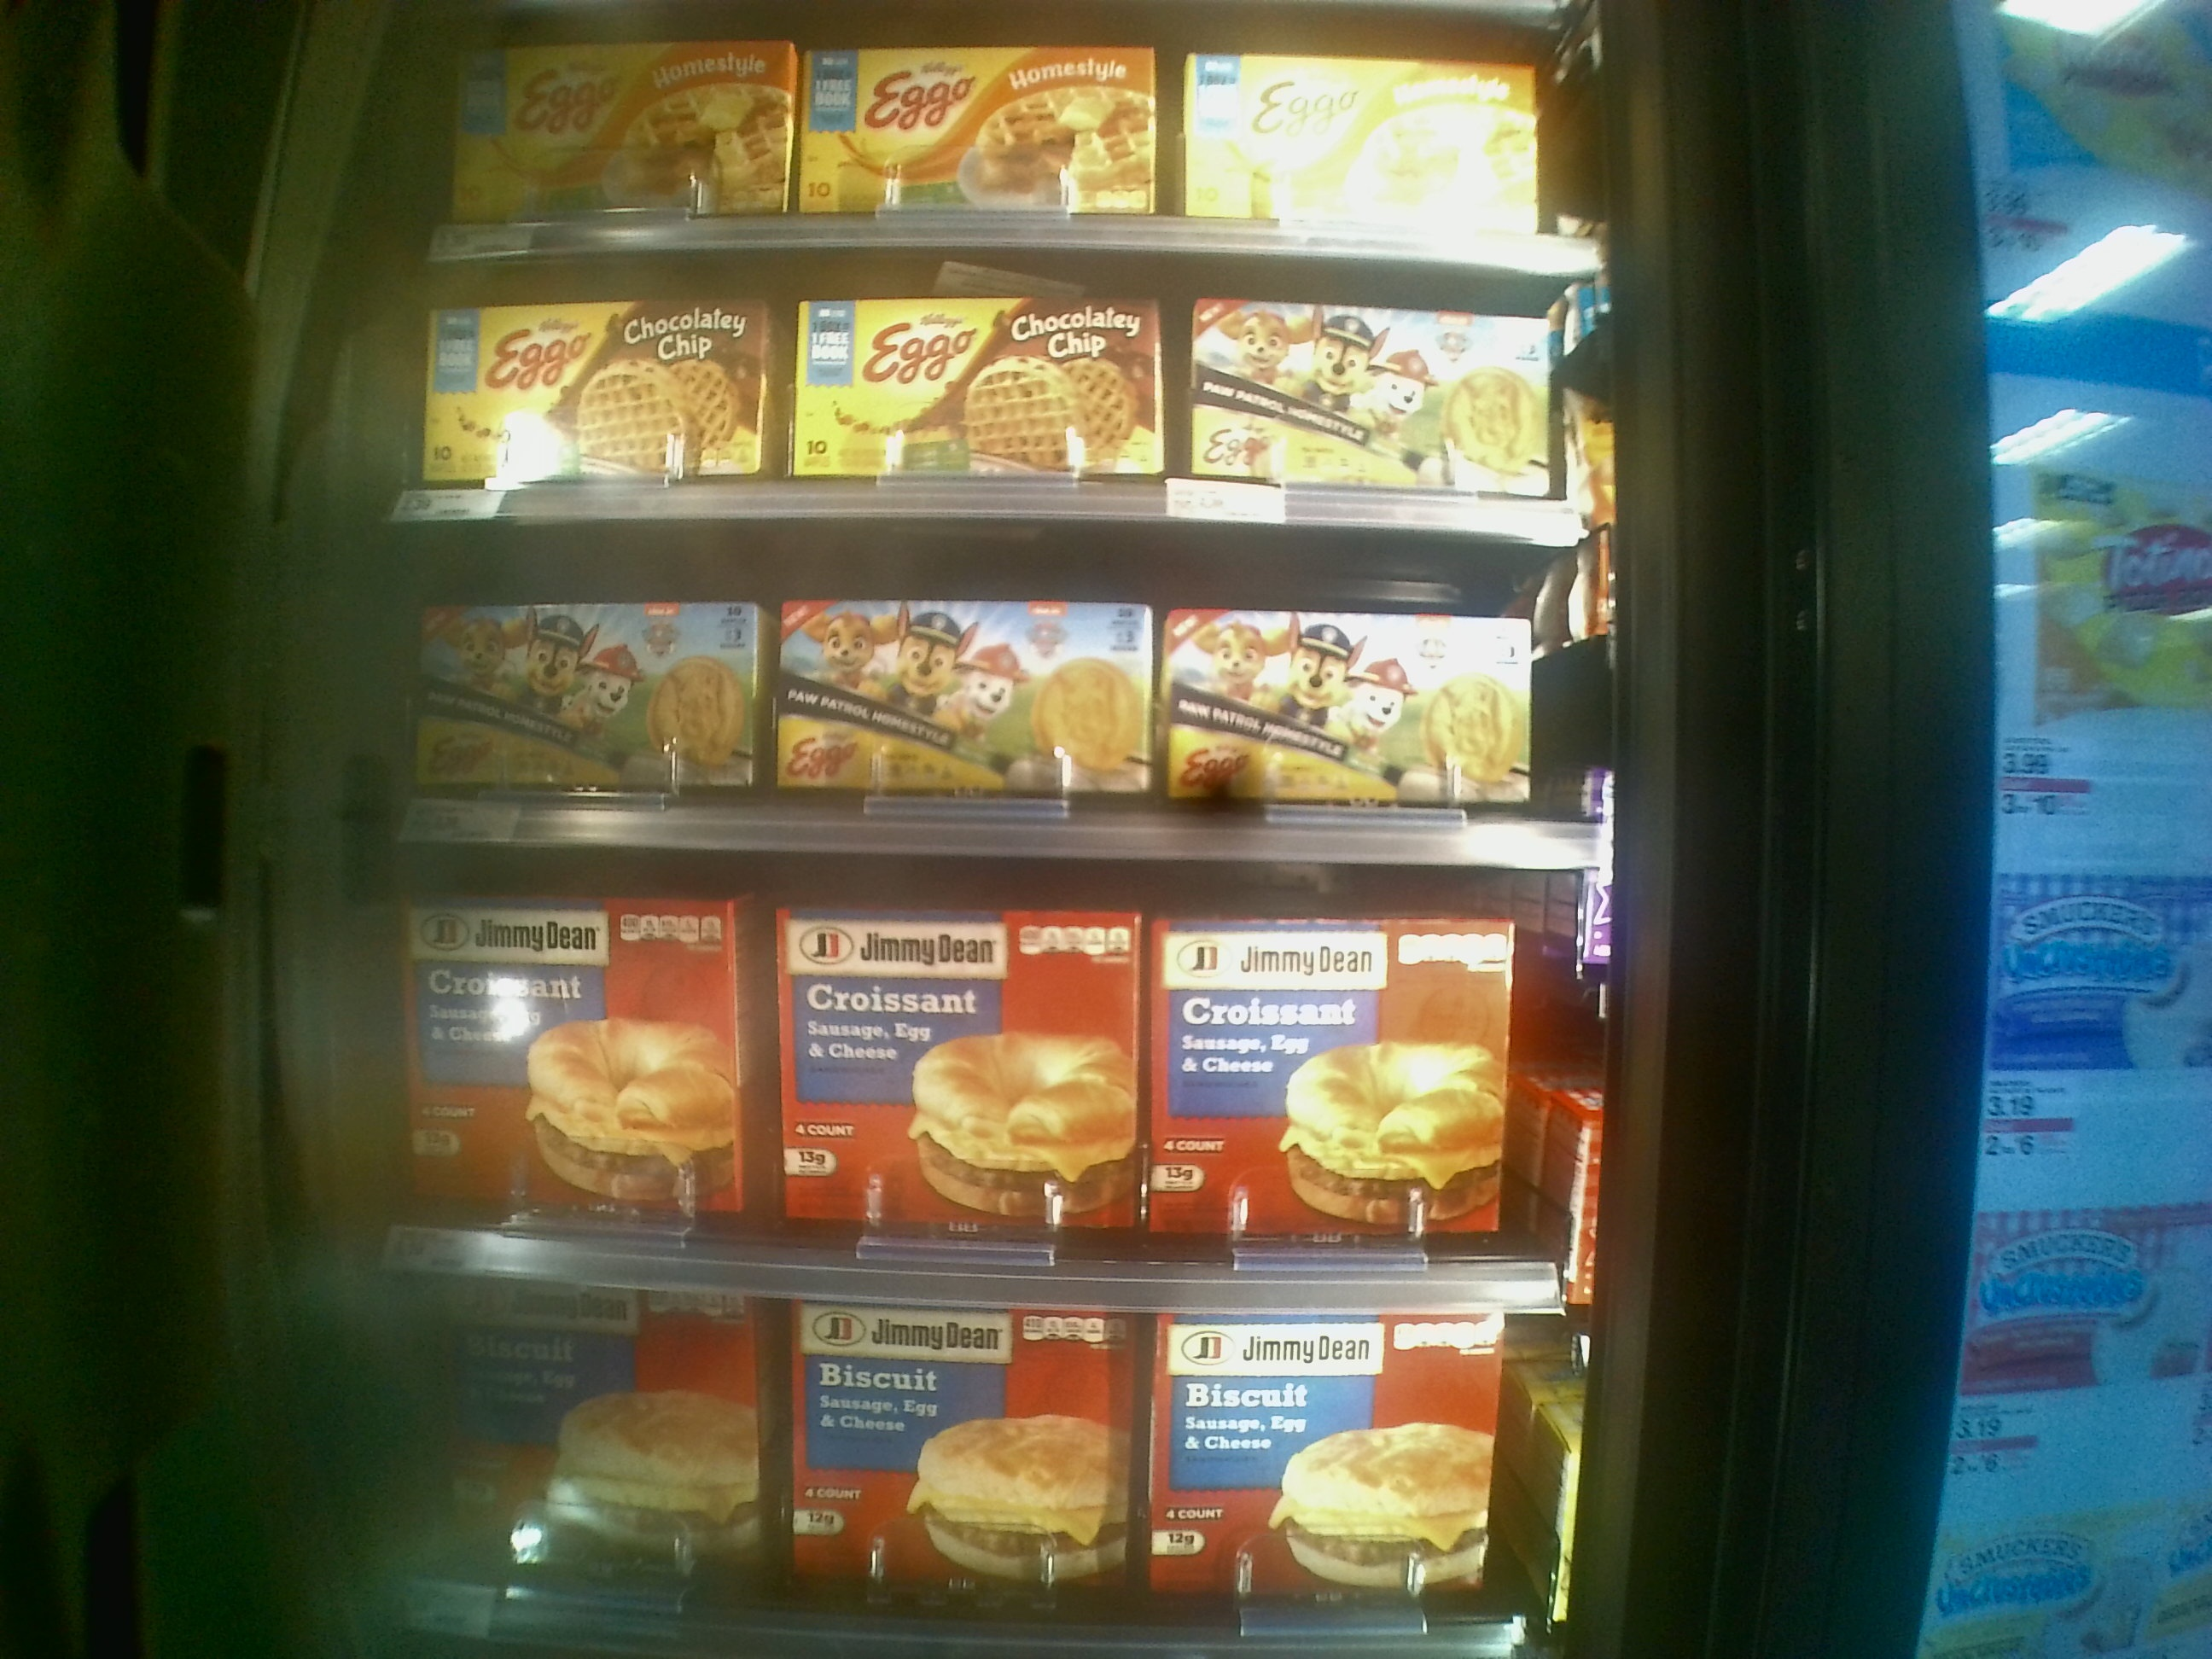shelf: (374, 842, 1566, 1303)
